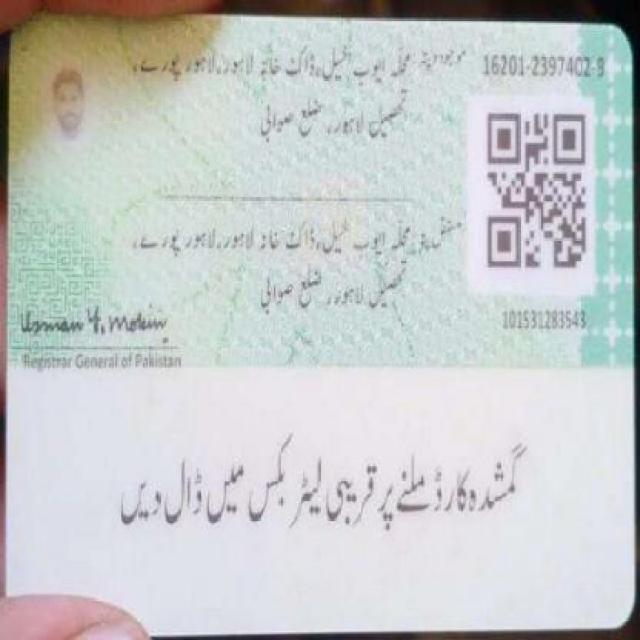Back: (6, 18, 629, 630)
